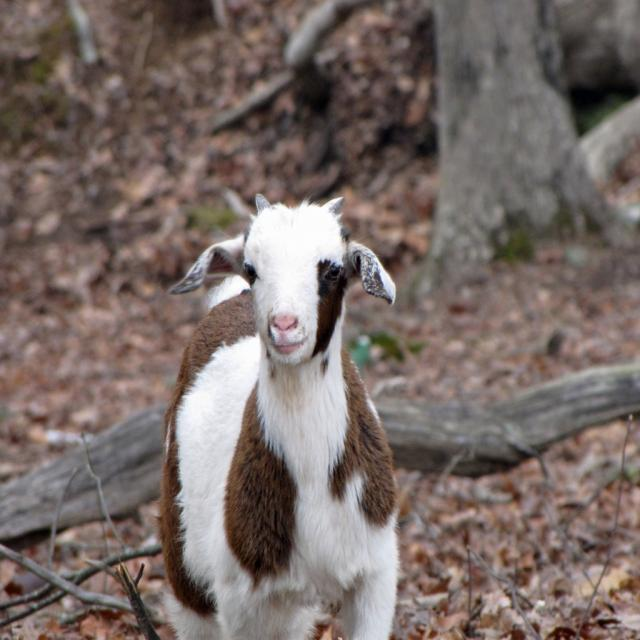Goat: (166, 190, 411, 630)
